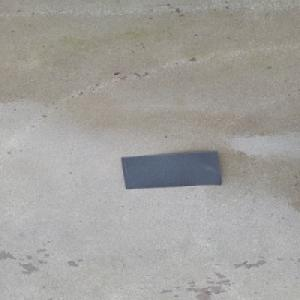PaintChip: (120, 151, 225, 190)
